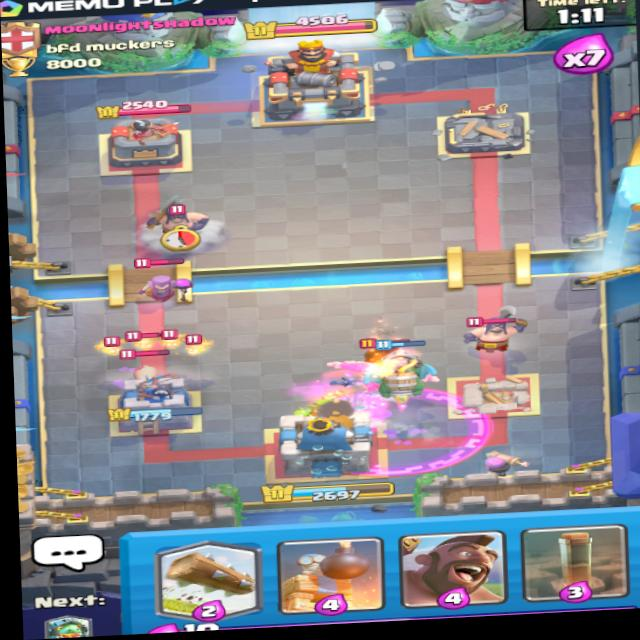Executioner: (146, 196, 228, 245), (463, 309, 527, 356)
Motherwitch: (126, 250, 199, 307)
Pig: (123, 351, 172, 392)
Rage: (311, 386, 489, 476)
